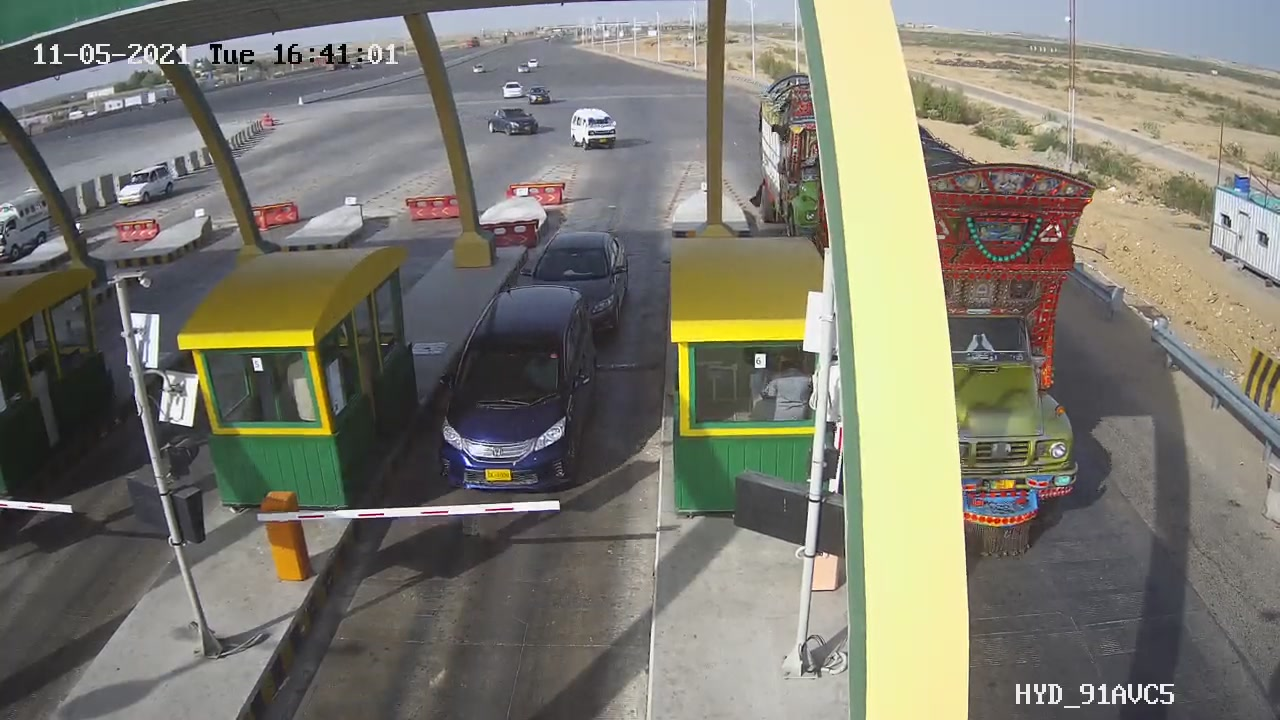F1: (420, 273, 614, 503)
